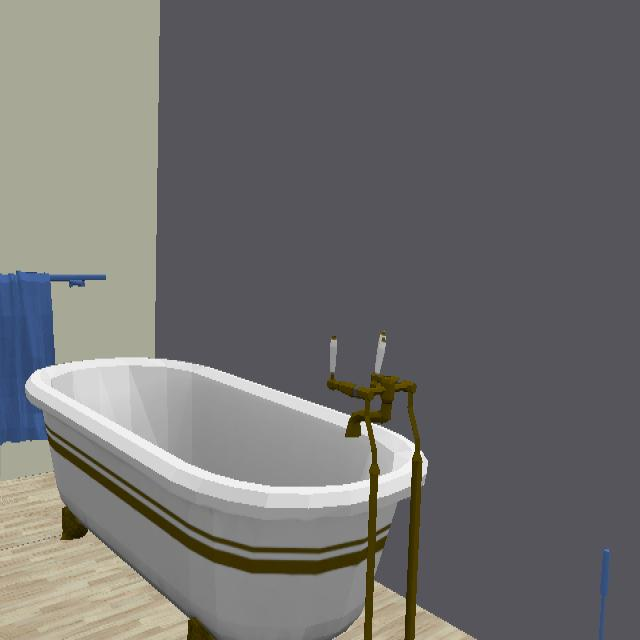bathtube: (25, 335, 426, 638)
